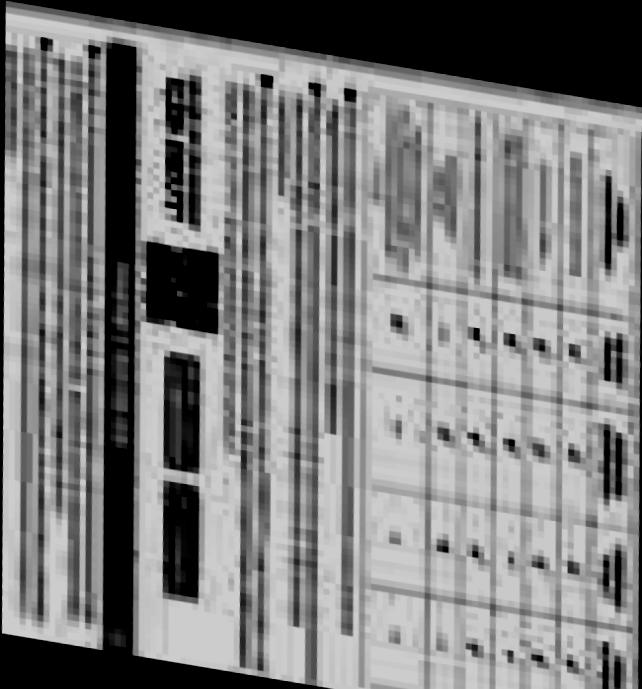electricity-bill: (1, 1, 642, 689)
